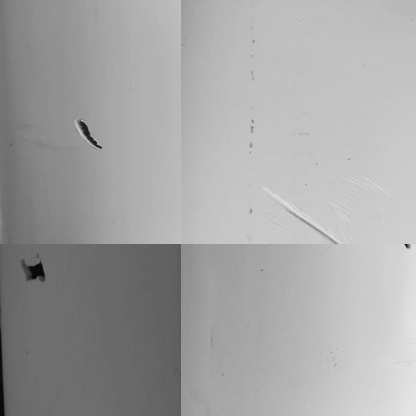kongdong: (72, 114, 104, 152), (20, 256, 46, 288)
sunshang: (261, 185, 343, 243)
